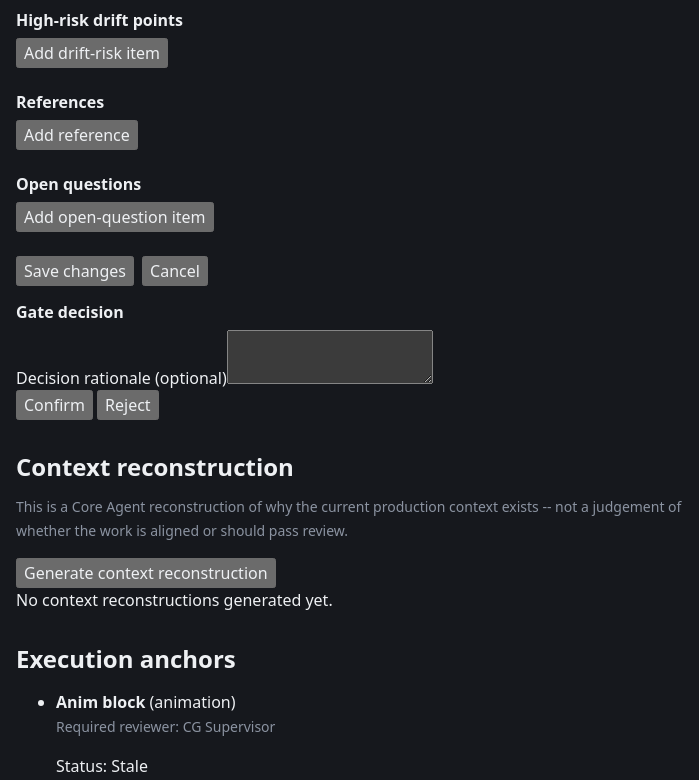
ShotAnchorPage › surfaces a 403 from the backend even though the UI allowed the click
(page scrolled)
Click the button "Confirm" at [54, 405], box [16,390,93,420]
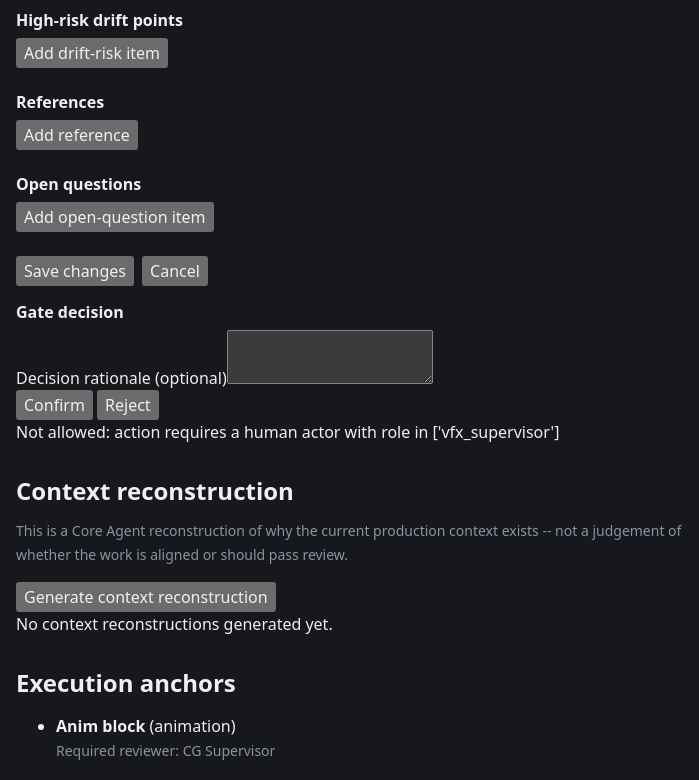
expect the message shows "Not allowed": met, box [16,421,559,443]
